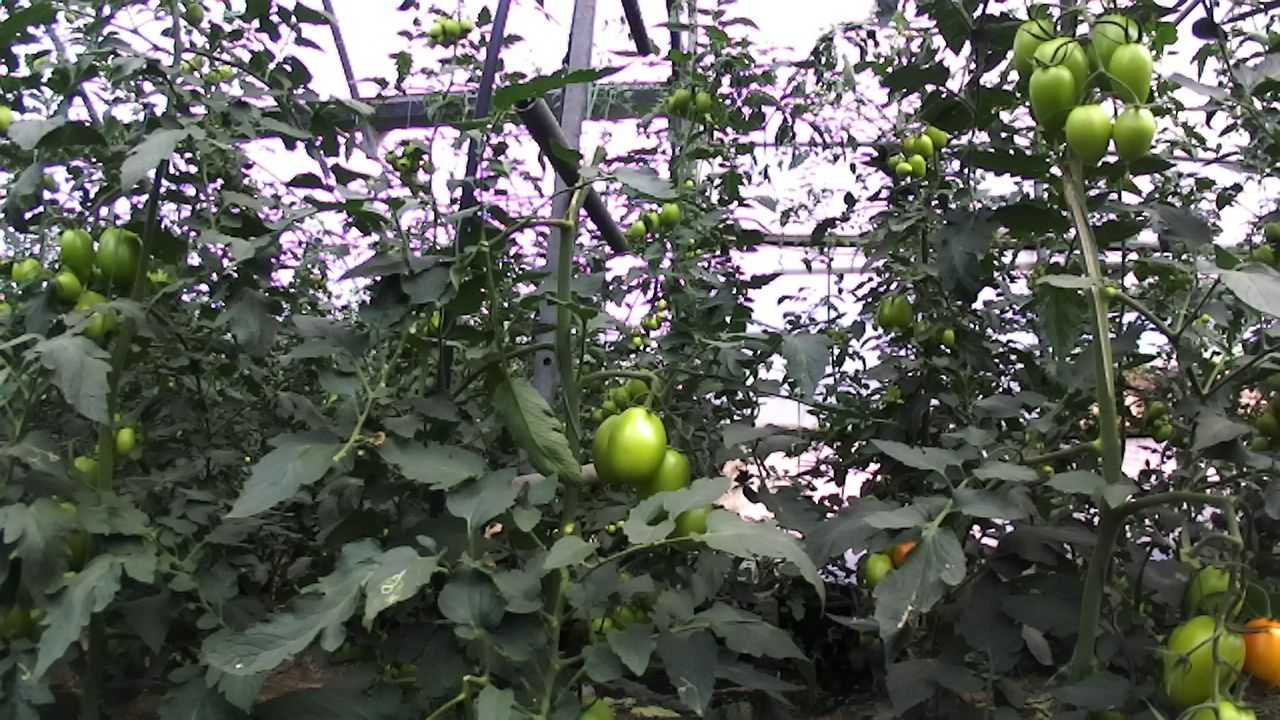tomato: (1151, 603, 1257, 710), (600, 404, 681, 496), (1174, 550, 1256, 638), (628, 439, 701, 521), (1079, 12, 1147, 93), (661, 479, 727, 561), (1006, 11, 1068, 96), (91, 214, 155, 296), (1021, 58, 1087, 137), (1099, 36, 1163, 116), (1059, 95, 1120, 167), (1232, 607, 1280, 698), (1108, 98, 1160, 175), (55, 220, 104, 281), (7, 252, 49, 300), (859, 544, 897, 595), (47, 263, 91, 305), (886, 290, 918, 334), (176, 0, 211, 35), (655, 195, 685, 234), (111, 422, 142, 459), (872, 294, 899, 330), (922, 122, 952, 153), (935, 322, 961, 354), (911, 131, 938, 161), (639, 205, 665, 236), (904, 151, 931, 180), (667, 83, 694, 111), (691, 88, 715, 114), (456, 12, 477, 40), (440, 16, 463, 39), (628, 217, 649, 238), (424, 20, 446, 40), (893, 160, 914, 179)
